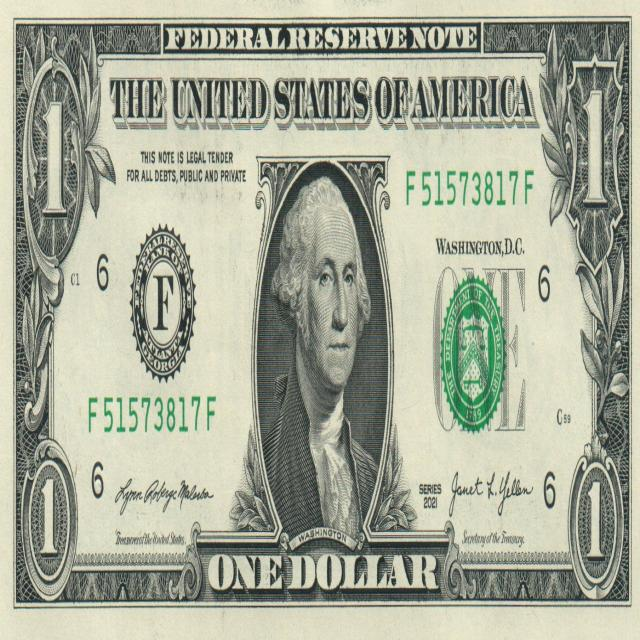SerialNumber: (89, 396, 215, 433), (407, 171, 533, 206)
